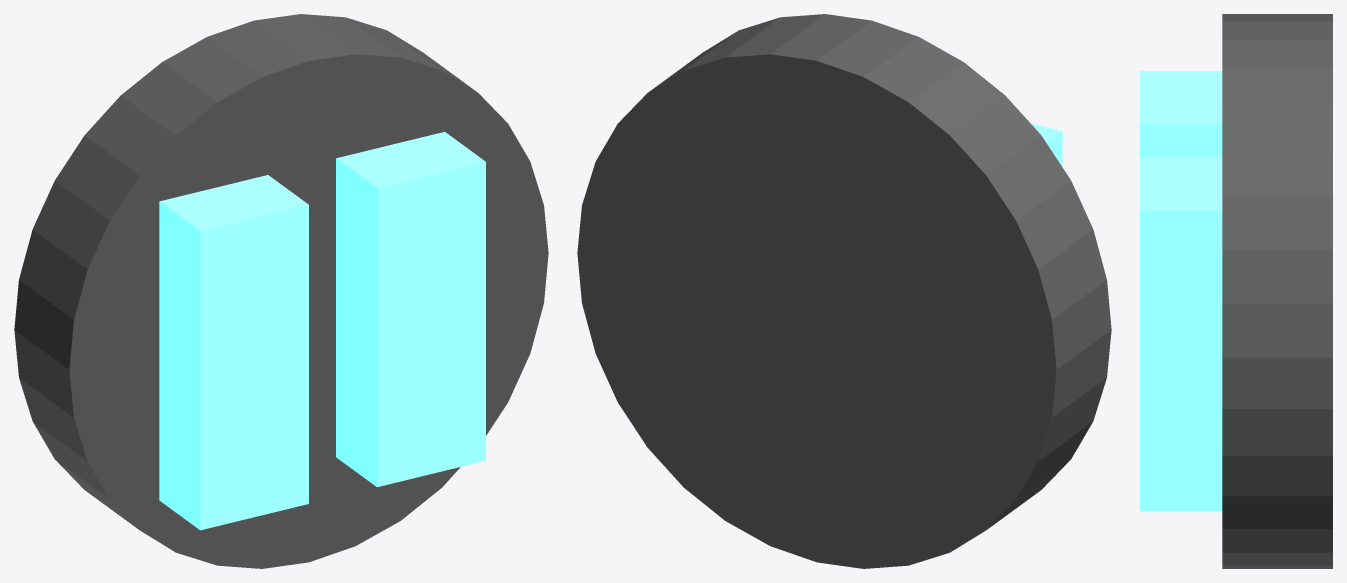
File: playback_pause-button.fbx
The picture shows the model from 3 angles, left to right: view 1: azimuth 30°, elevation 25°; view 2: azimuth 150°, elevation 25°; view 3: azimuth 270°, elevation 25°; orthographic projection.
Visible parts, largest first — view 1: Plane.002; view 2: Plane.002; view 3: Plane.002.
Boxes of the visible parts, x1,y1,x2,y2 form: Plane.002: (14, 14, 548, 568); Plane.002: (577, 14, 1111, 568); Plane.002: (1140, 14, 1332, 568).
Size of the model in its own units: 24.43 by 24.43 by 8.47.
